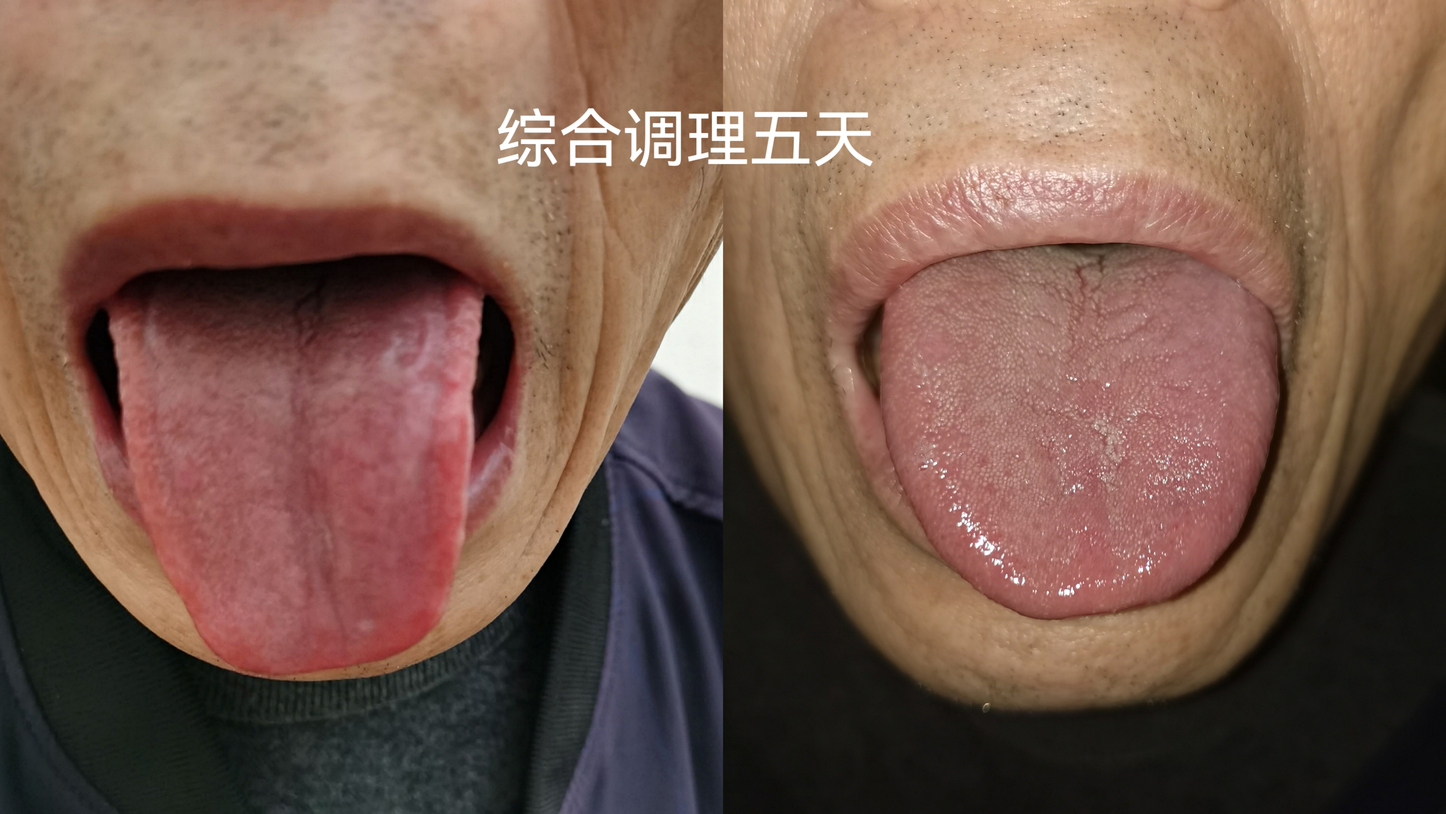baitaishe: (880, 246, 1280, 620)
hongshe: (108, 269, 481, 676)
liewenshe: (284, 283, 335, 350)
